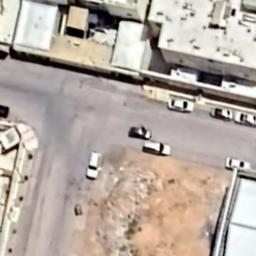SUV: (142, 138, 176, 158), (83, 149, 104, 181)
sedan: (224, 154, 252, 174), (167, 96, 198, 114), (127, 123, 156, 141), (208, 104, 233, 122), (233, 111, 256, 128)
